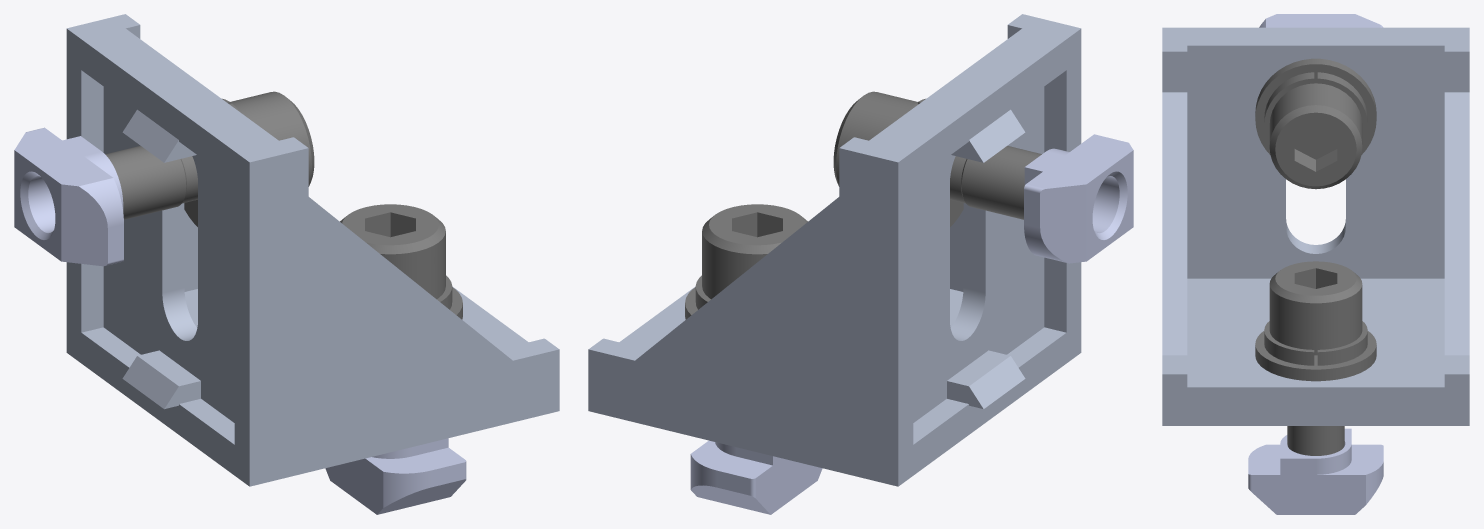
Rendered from TPGY-TPGY-4510-4545-Z-ZP-DZ.glb.
The picture shows the model from 3 angles, left to right: view 1: azimuth 30°, elevation 25°; view 2: azimuth 150°, elevation 25°; view 3: azimuth 270°, elevation 25°; orthographic projection. The views are drawn at different scales.
Parts seen in each view (by area): view 1: NAUO1, NAUO5, NAUO4, NAUO3, NAUO2; view 2: NAUO1, NAUO5, NAUO4, NAUO3, NAUO2; view 3: NAUO1, NAUO2, NAUO4, NAUO3, NAUO5.
Part boxes in pixels (x1,y1,x2,y2): NAUO1: (66,14,559,486); NAUO5: (14,127,123,266); NAUO4: (105,91,314,226); NAUO3: (325,438,466,514); NAUO2: (340,204,462,319); NAUO1: (588,14,1081,486); NAUO5: (1024,134,1133,263); NAUO4: (833,91,1041,226); NAUO3: (690,440,822,514); NAUO2: (685,204,807,319); NAUO1: (1162,27,1469,425); NAUO2: (1255,261,1376,455); NAUO4: (1255,58,1376,189); NAUO3: (1248,428,1383,514); NAUO5: (1259,14,1383,27).
Bounding box in the file's own units: 0.0583 × 0.0583 × 0.043.
